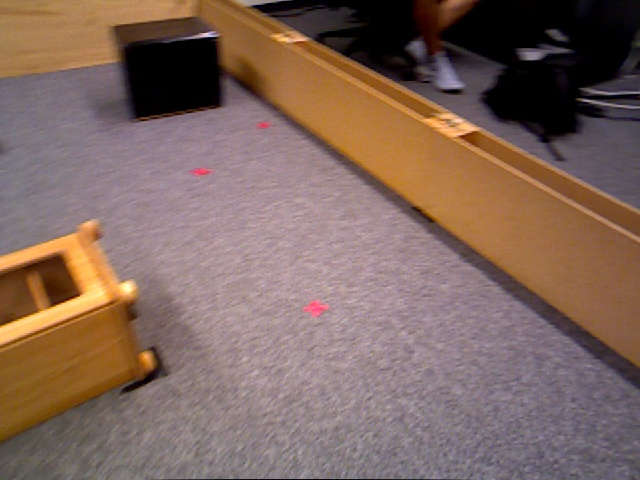push: (114, 23, 223, 118)
